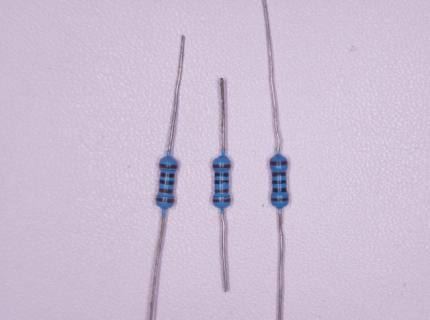Black band: (159, 179, 175, 185), (160, 172, 175, 178), (214, 172, 229, 177), (272, 180, 287, 185), (272, 188, 287, 192), (215, 180, 229, 184)
Brown band: (156, 197, 174, 204), (159, 163, 178, 169), (212, 198, 231, 203), (159, 188, 174, 194), (271, 197, 289, 202), (270, 161, 288, 166), (271, 172, 286, 177), (213, 164, 231, 168), (214, 189, 230, 193)
